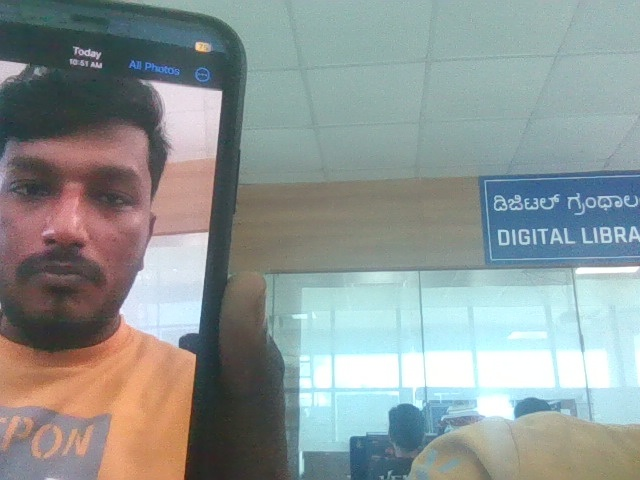fake: (0, 17, 242, 360)
